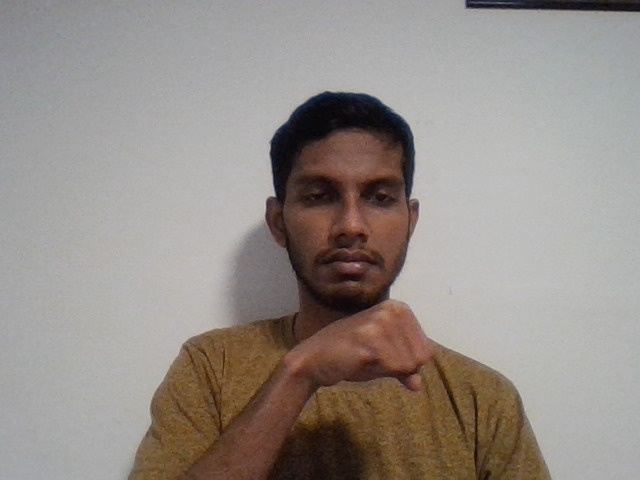yes: (273, 295, 460, 412)
